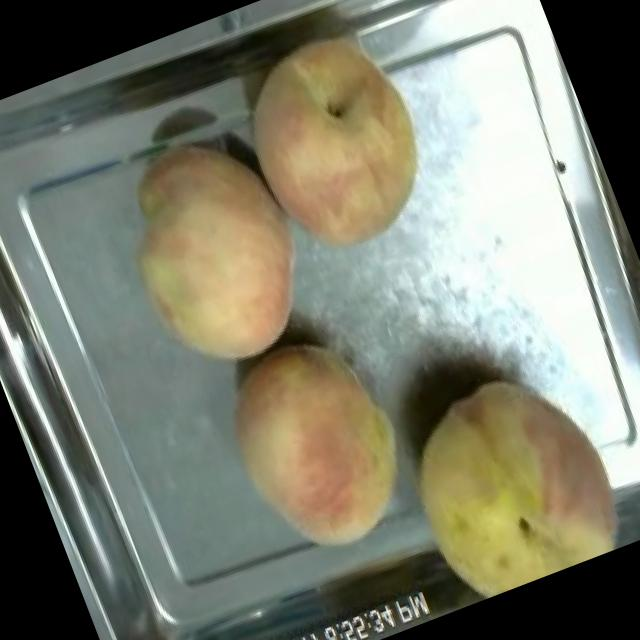Fruit: (369, 337, 640, 614), (210, 5, 464, 281), (95, 112, 343, 393), (202, 313, 439, 580)
